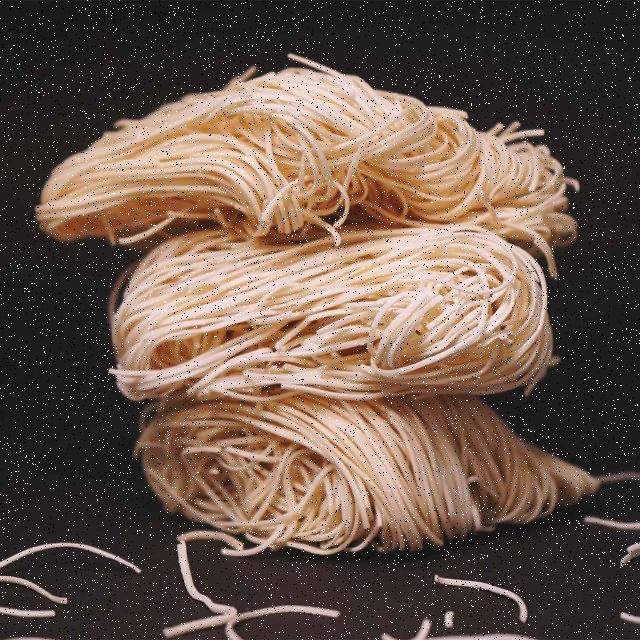Noodles: (35, 72, 565, 234), (117, 398, 594, 546), (74, 250, 562, 386)
